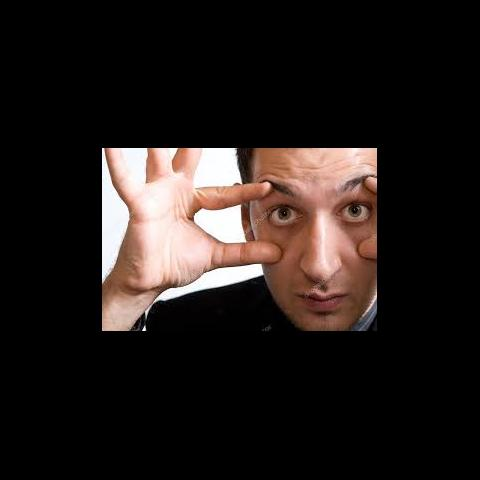opened: (256, 181, 376, 243)
